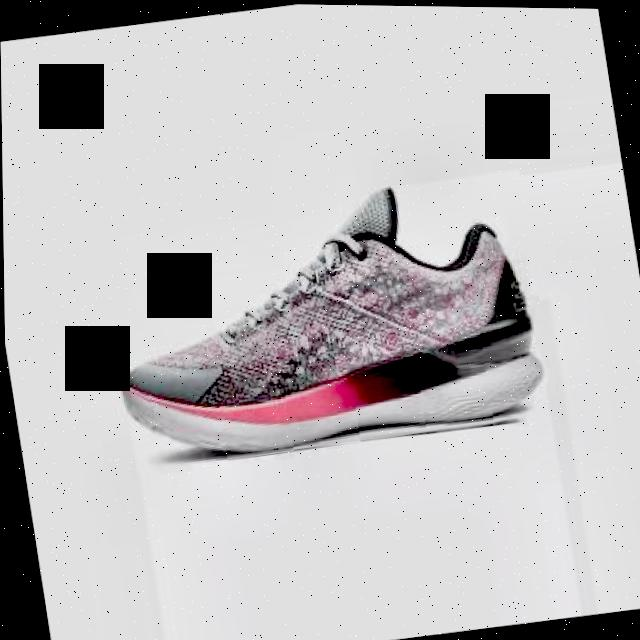shoe: (97, 168, 549, 475), (115, 183, 548, 456)
